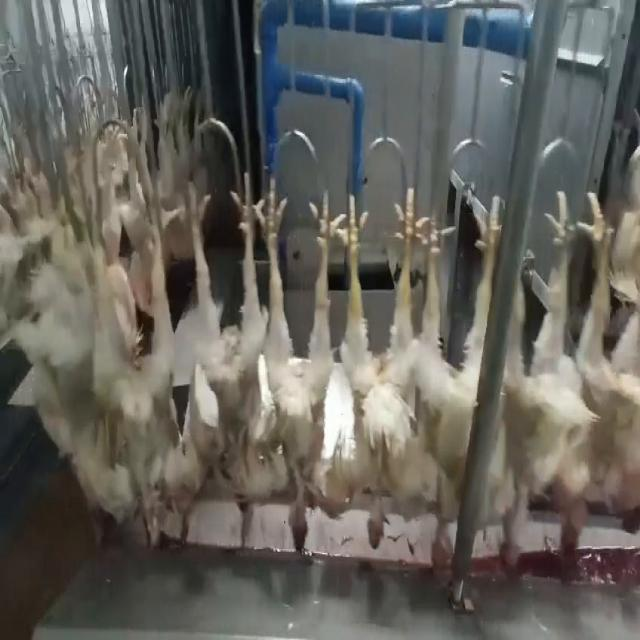chicken: (328, 182, 423, 555), (489, 185, 574, 579), (251, 180, 339, 560), (173, 163, 255, 541), (410, 199, 488, 582), (564, 186, 638, 584), (118, 172, 174, 552), (70, 186, 118, 532)
